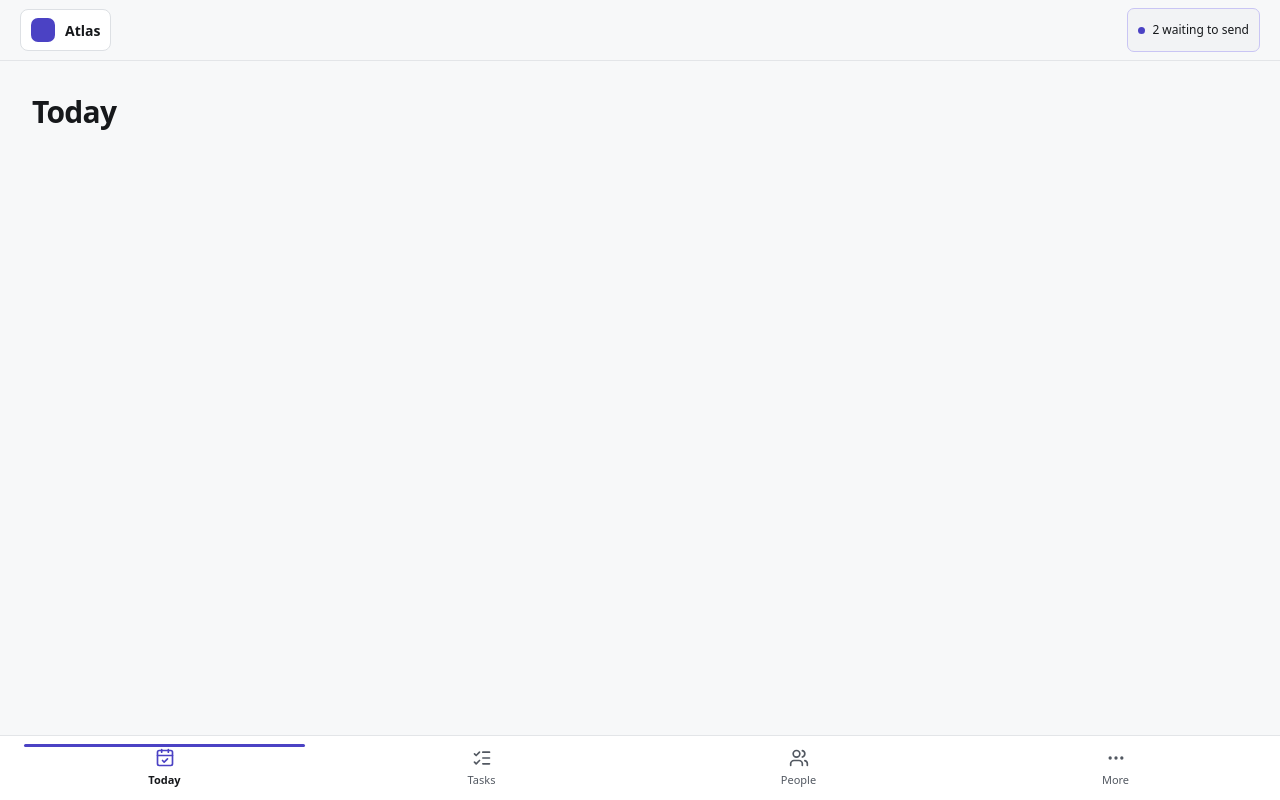
More sheet (mobile) › Escape closes the sheet
Expected: the element showing "Today" is shown, [32,91,116,132]
Click the button "More" at (1116, 768), box [959,744,1272,792]
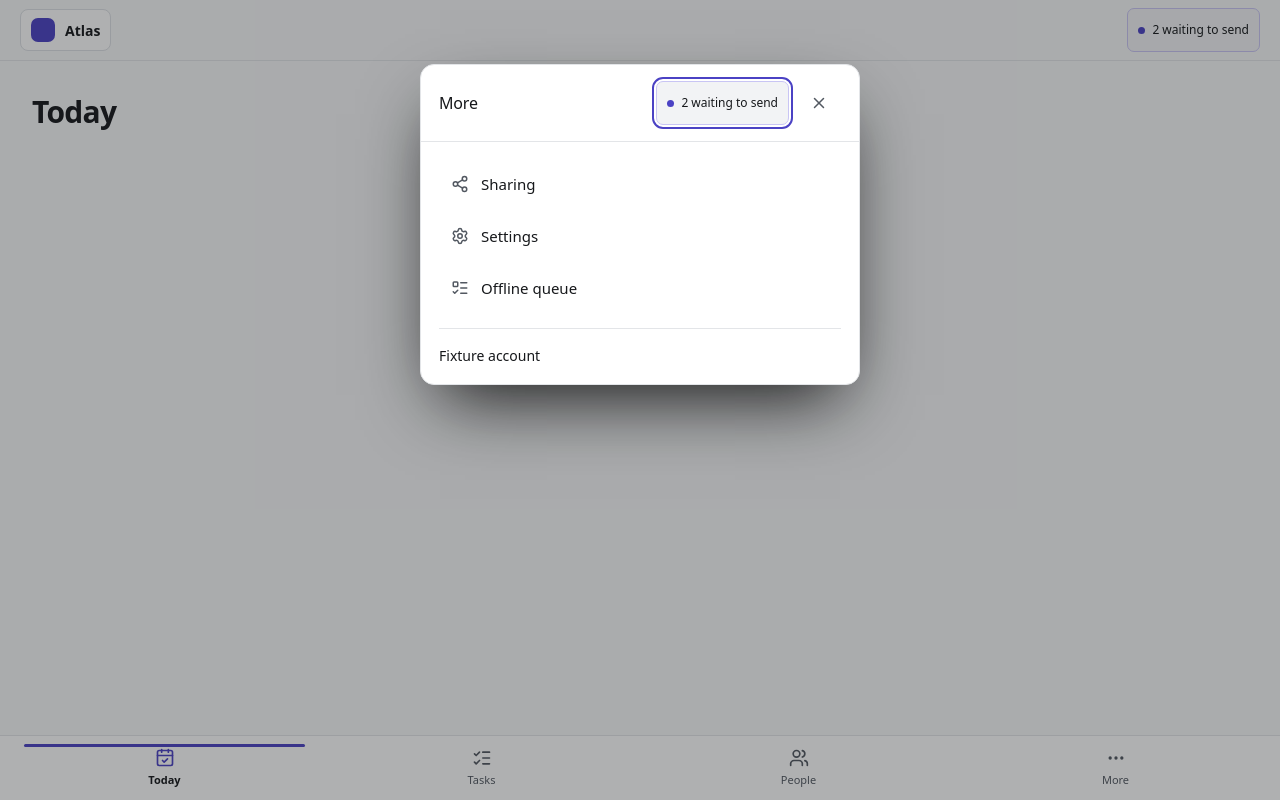
Press Escape in the dialog "More", box [420,64,860,385]
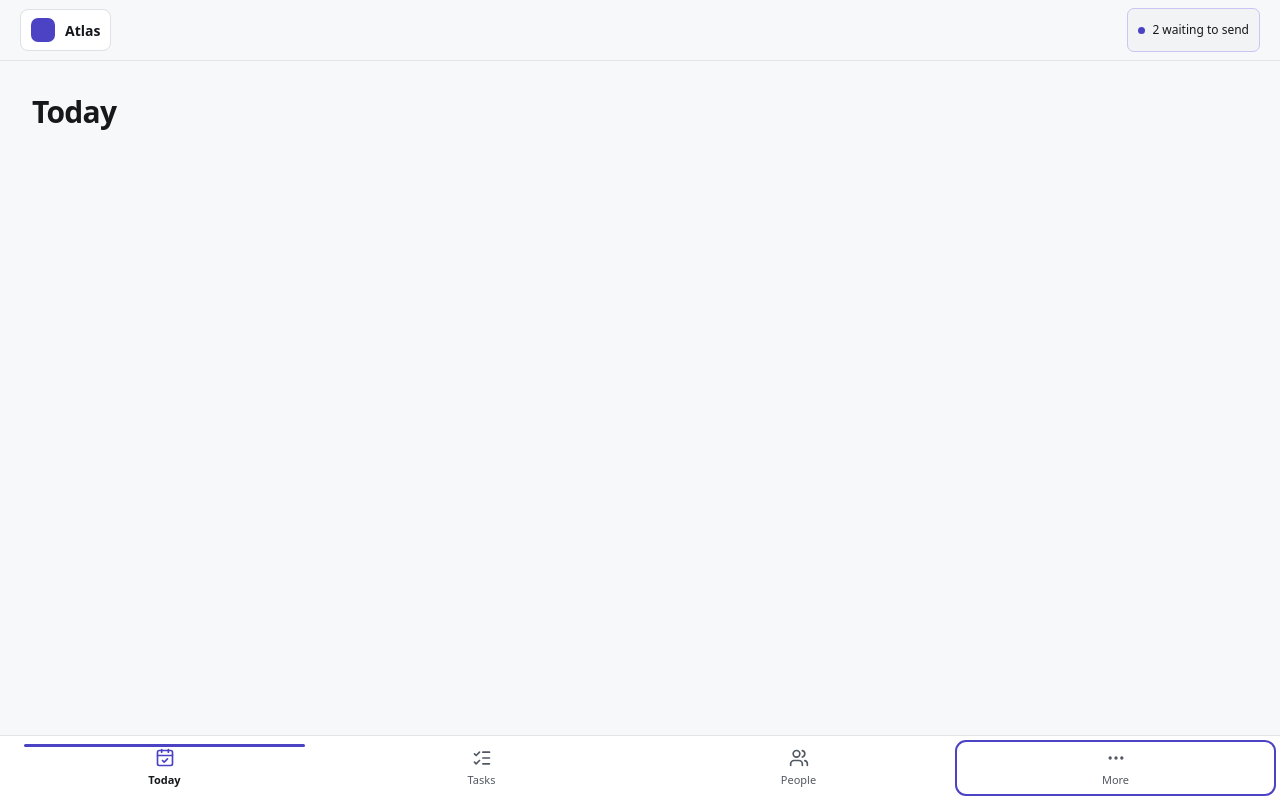
Expected: the dialog is gone
